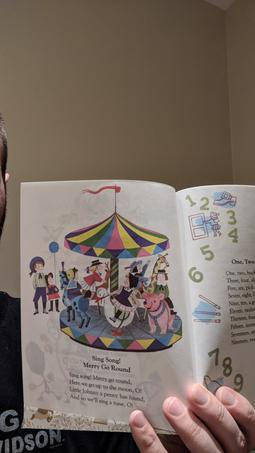text block: (59, 347, 150, 408), (219, 253, 255, 347)
